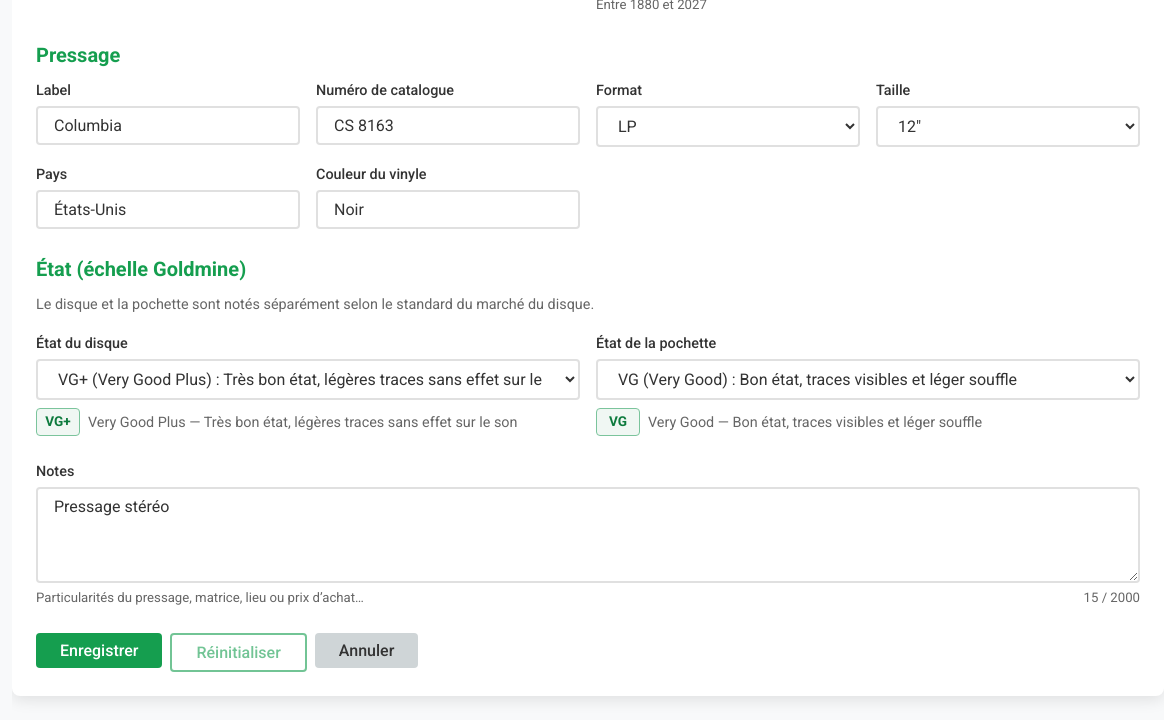
PageModification › enregistre les modifications via modifierVinyle et redirige vers la fiche
(page scrolled)
Select "NM (Near Mint) : Quasi neuf, aucune trace visible" in the dropdown labelled "État de la pochette" at (868, 380), box [596,359,1140,400]
(page scrolled)
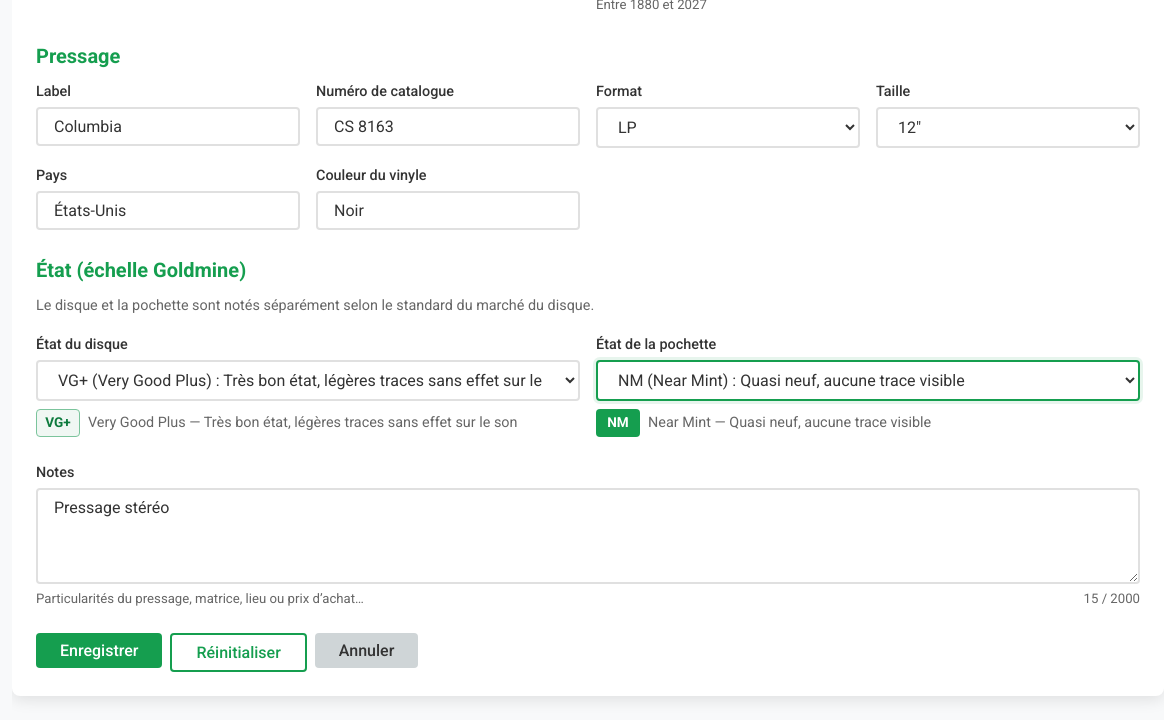
Click the button "Enregistrer".
click(99, 650)  # box [36,633,162,668]
(page scrolled)
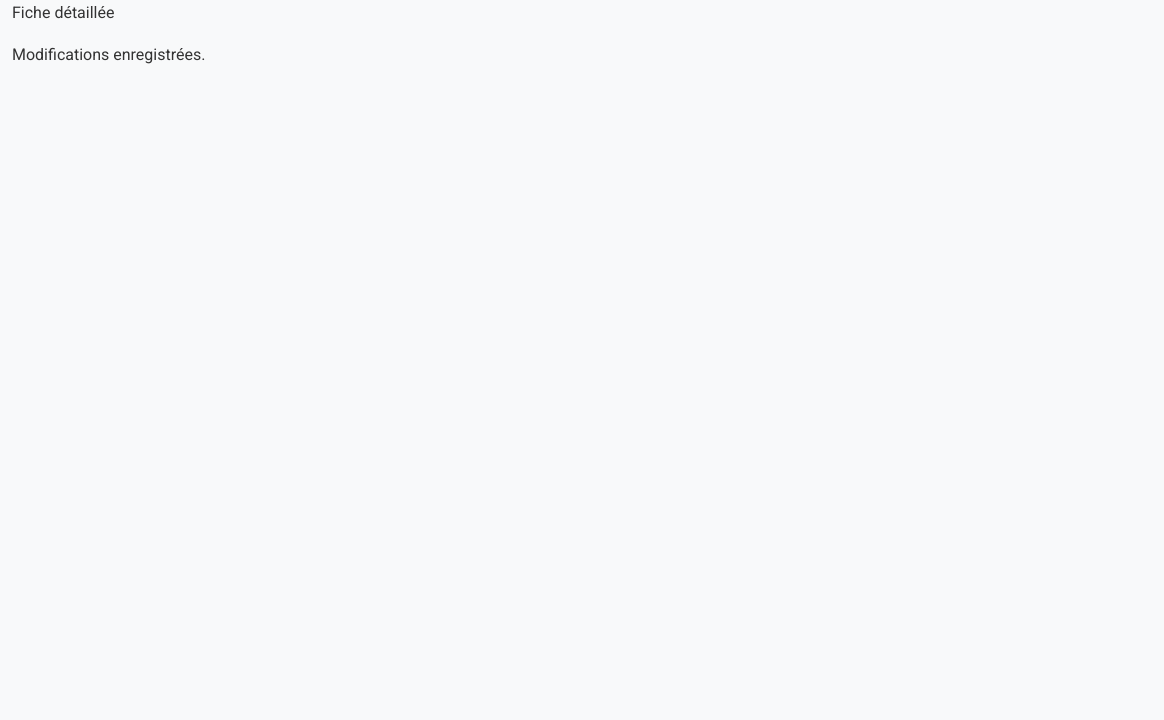
Expected: the text "Fiche détaillée" is shown, [12,3,114,22]
Expected: the text "Modifications enregistrées." is shown, [12,45,205,64]
